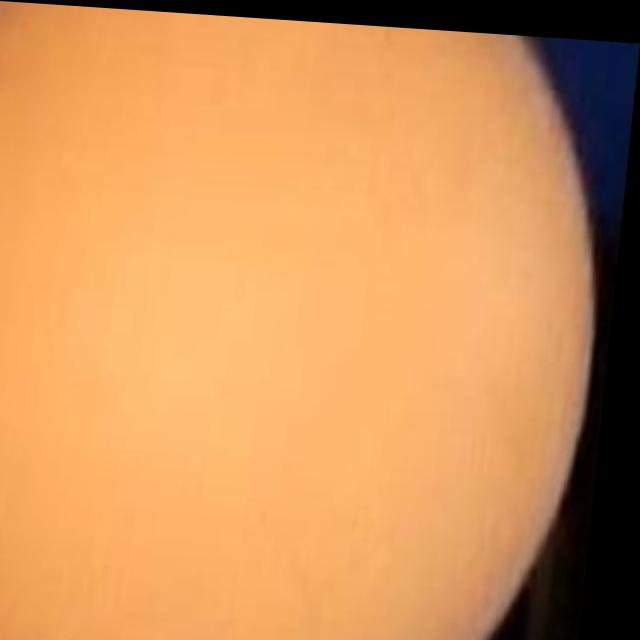fresh: (0, 0, 604, 640)
